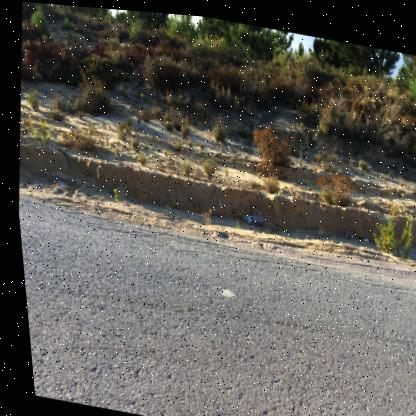Plastic: (236, 210, 258, 220), (50, 177, 64, 184), (341, 225, 349, 231)
Waste: (357, 231, 363, 234)
